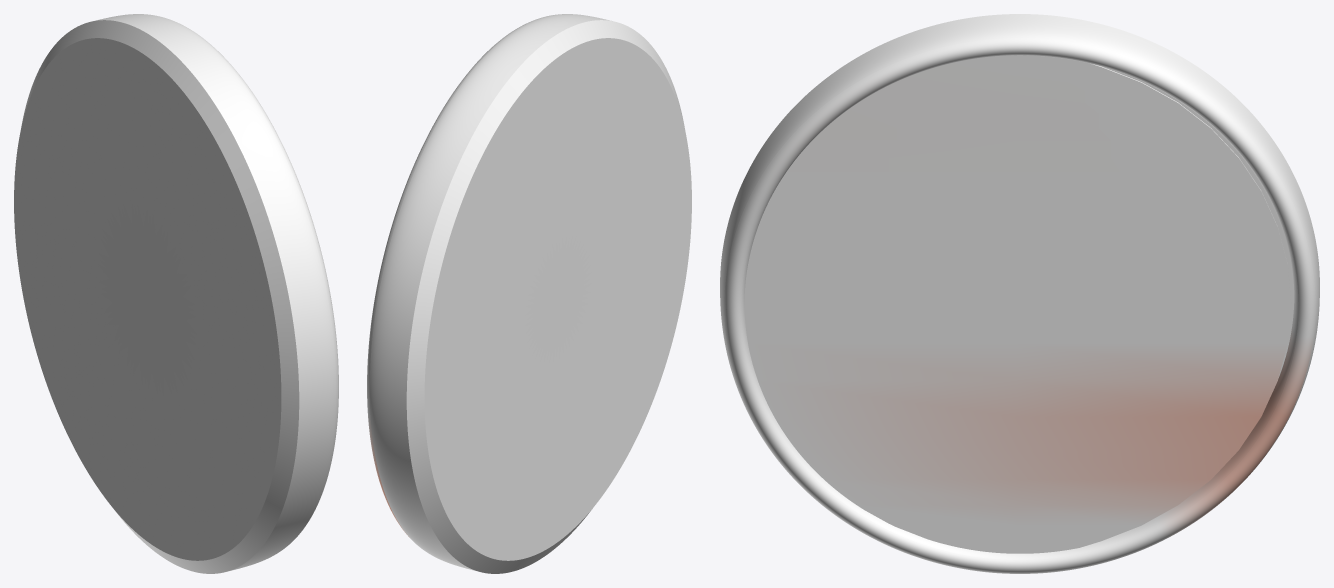
File: RELOGIO.fbx
3 views of the same model, side by side, from view 1: azimuth 30°, elevation 25°; view 2: azimuth 150°, elevation 25°; view 3: azimuth 270°, elevation 25° (orthographic). The views are drawn at different scales.
Parts seen in each view (by area): view 1: Circle.016; view 2: Circle.016; view 3: Circle.000, Circle.016.
Part boxes in pixels (x1,y1,x2,y2): Circle.016: (14, 14, 338, 573); Circle.016: (367, 14, 691, 573); Circle.000: (744, 55, 1291, 553); Circle.016: (720, 14, 1319, 573).
Bounding box in the file's own units: 10 × 88.91 × 88.91.
